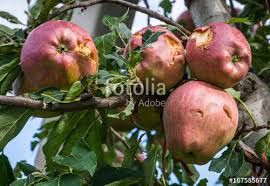damaged_apple: (165, 81, 243, 163), (21, 25, 98, 88), (187, 25, 257, 85), (123, 25, 186, 85)
